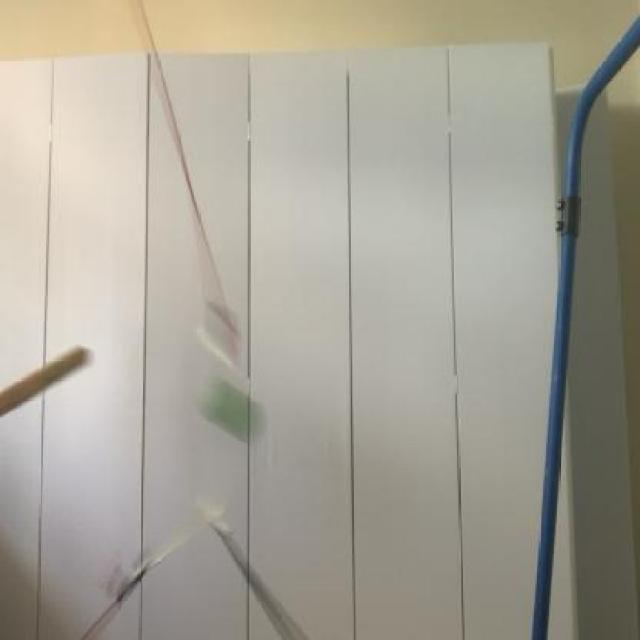baseball: (186, 362, 280, 458)
